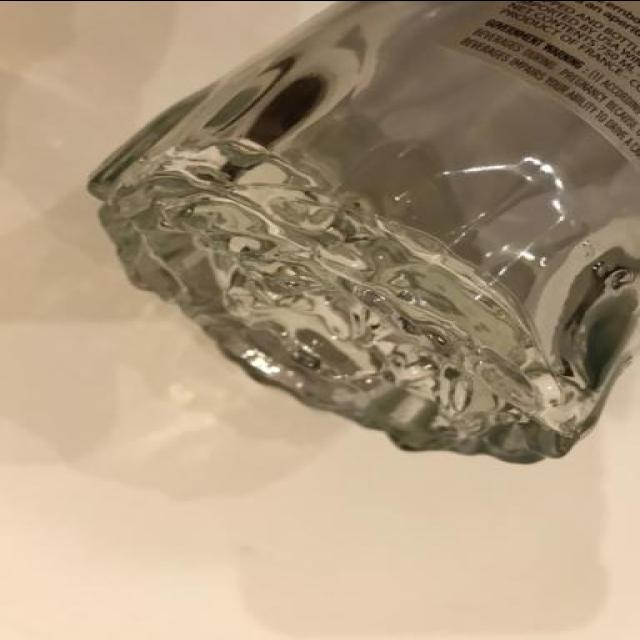glass: (83, 0, 639, 473)
